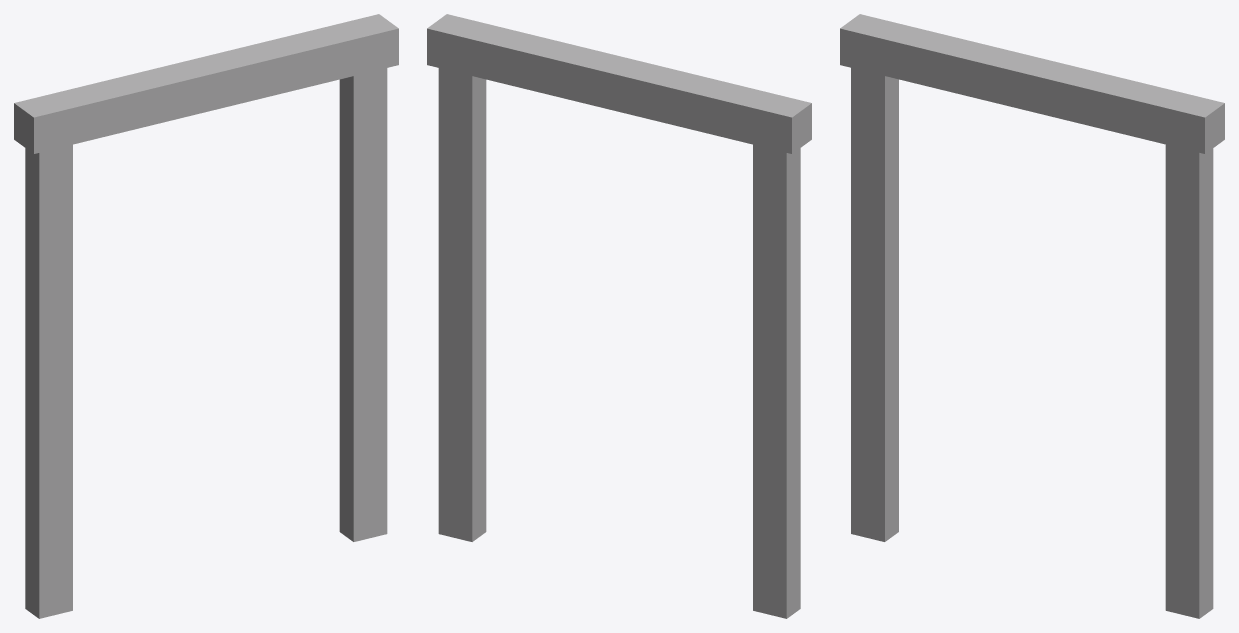
Rendered from DoorFrame (5).fbx.
3 renders of one model, left to right at view 1: azimuth 30°, elevation 25°; view 2: azimuth 150°, elevation 25°; view 3: azimuth 330°, elevation 25°, orthographic.
Visible parts, largest first — view 1: DoorFrame (5); view 2: DoorFrame (5); view 3: DoorFrame (5).
Part boxes in pixels (x1,y1,x2,y2): DoorFrame (5): (14, 14, 398, 618); DoorFrame (5): (427, 14, 811, 618); DoorFrame (5): (840, 14, 1224, 618).
Size of the model in its own units: 2.97 by 3.94 by 0.2799.
Materials: 1 (1 with a texture image).
